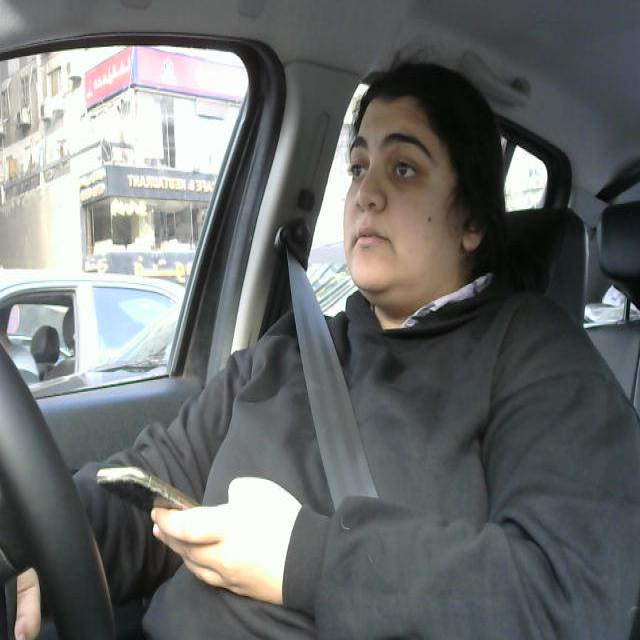mobile use: (92, 450, 206, 520)
